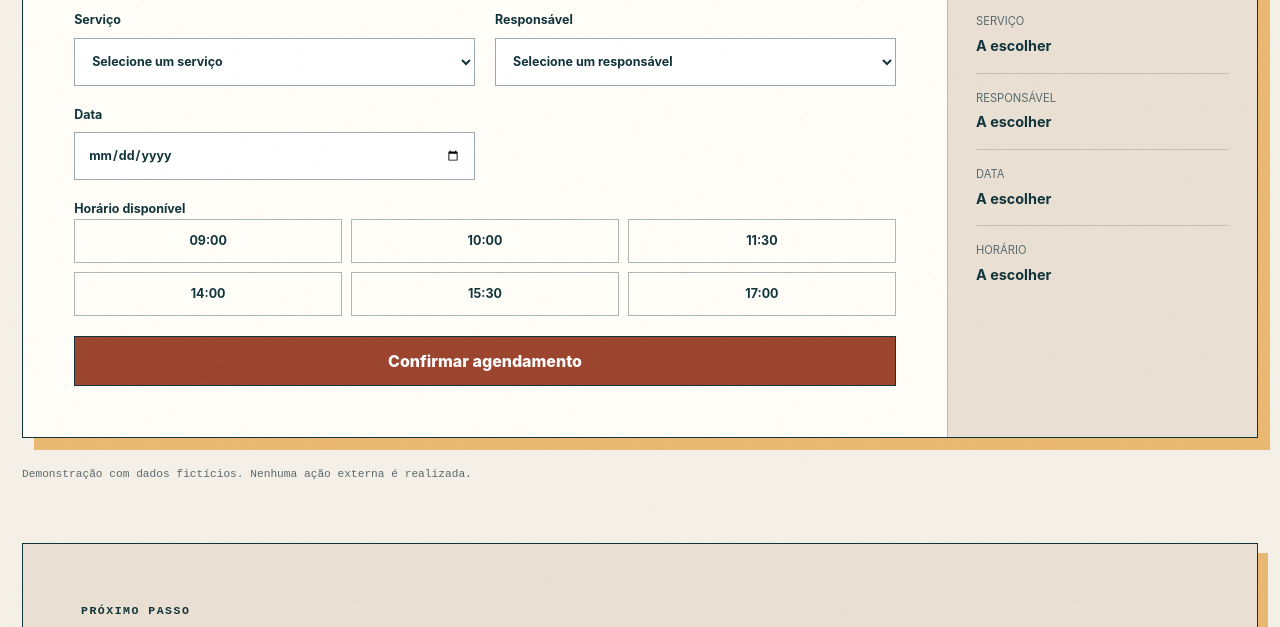
Test: AgendaDemoPage › exige os campos antes de confirmar
The image size is (1280, 627).
(page scrolled)
Click the button "Confirmar agendamento": (485, 361) 74,336 -> 896,386
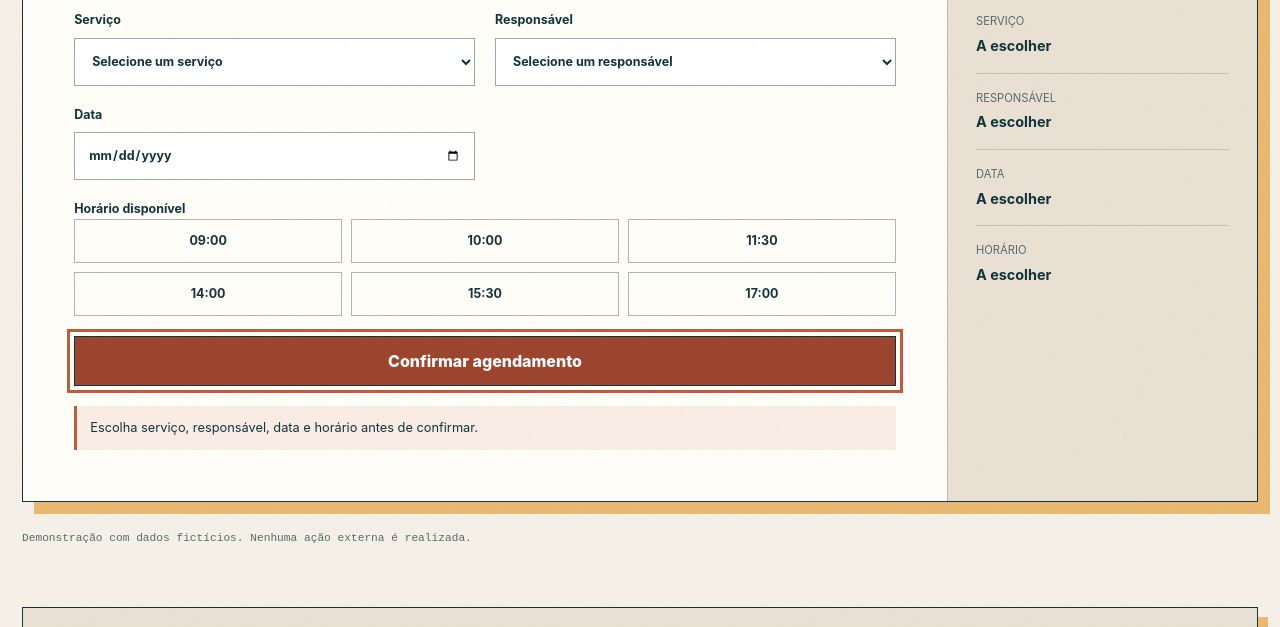
Now the message shows "Escolha serviço, responsável, data e horário", box 90,420 -> 478,435
